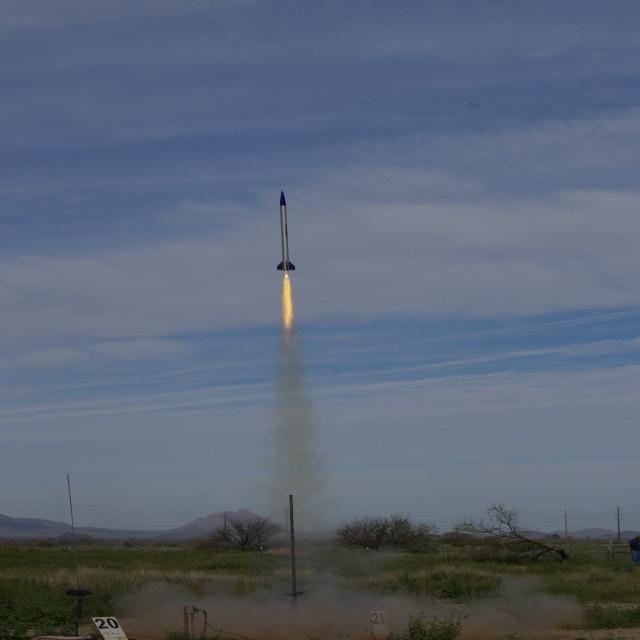Rocket: (276, 188, 298, 272)
